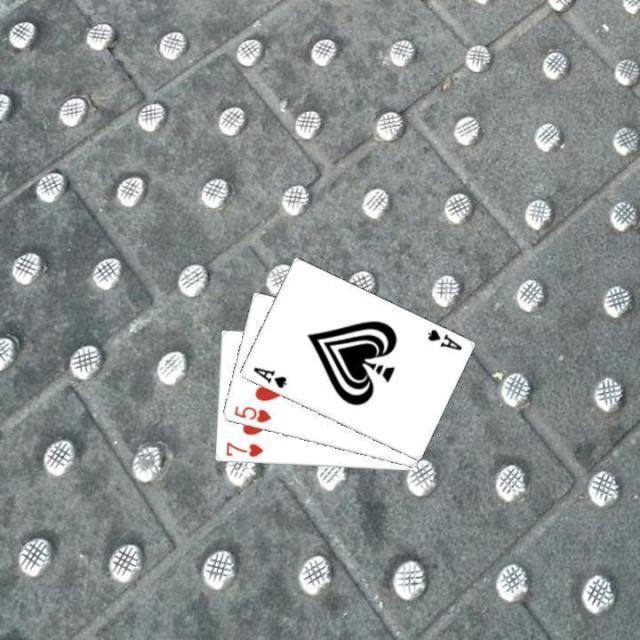5H: (230, 402, 273, 425)
7H: (221, 438, 265, 459)
AS: (423, 325, 464, 352), (249, 364, 288, 391)
